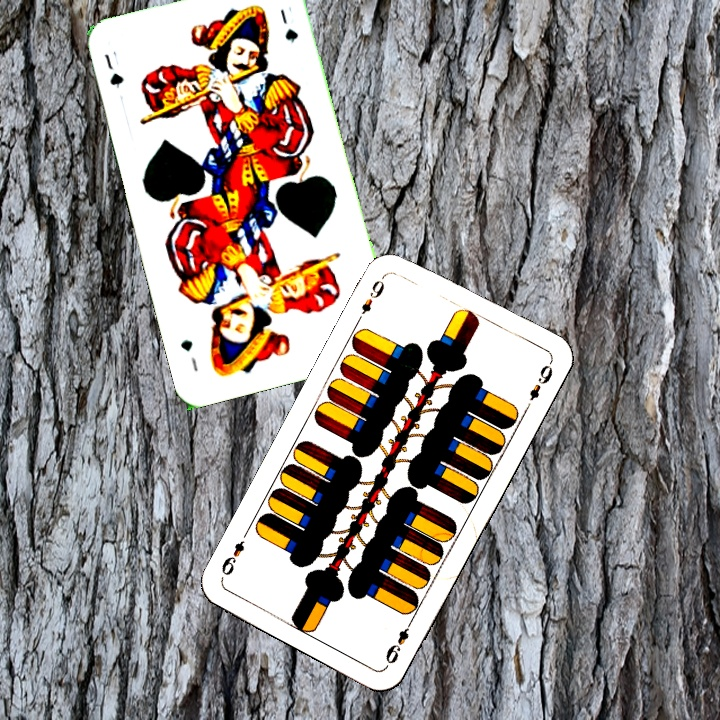E9: (353, 270, 389, 324), (381, 614, 416, 669)
GU: (100, 47, 126, 91)
